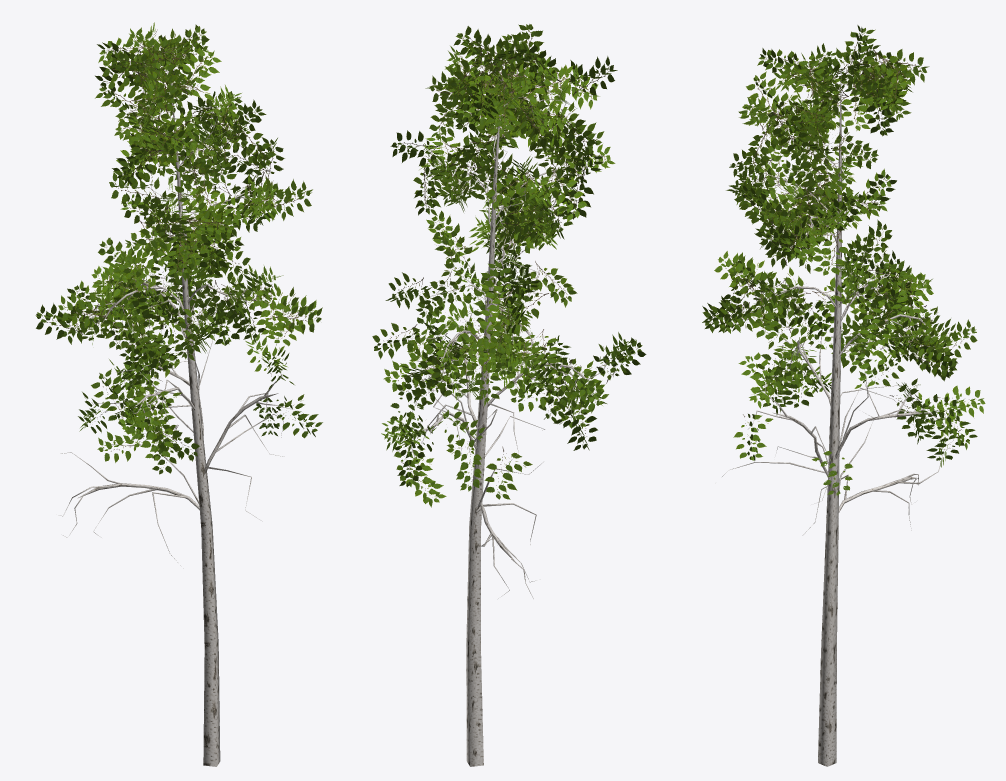
The model's file is birch_tree_1_lod1.gltf.
3 renders of one model, left to right at view 1: azimuth 30°, elevation 25°; view 2: azimuth 150°, elevation 25°; view 3: azimuth 270°, elevation 25°, orthographic. The views are drawn at different scales.
Visible parts, largest first — view 1: birch_tree_1_lod1; view 2: birch_tree_1_lod1; view 3: birch_tree_1_lod1.
Boxes of the visible parts, bbox=[...] form: birch_tree_1_lod1: bbox=[35, 22, 322, 766]; birch_tree_1_lod1: bbox=[372, 24, 646, 766]; birch_tree_1_lod1: bbox=[702, 25, 985, 766].
Size of the model in its own units: 2.91 by 8.72 by 3.35.
2 materials, 2 textured.
